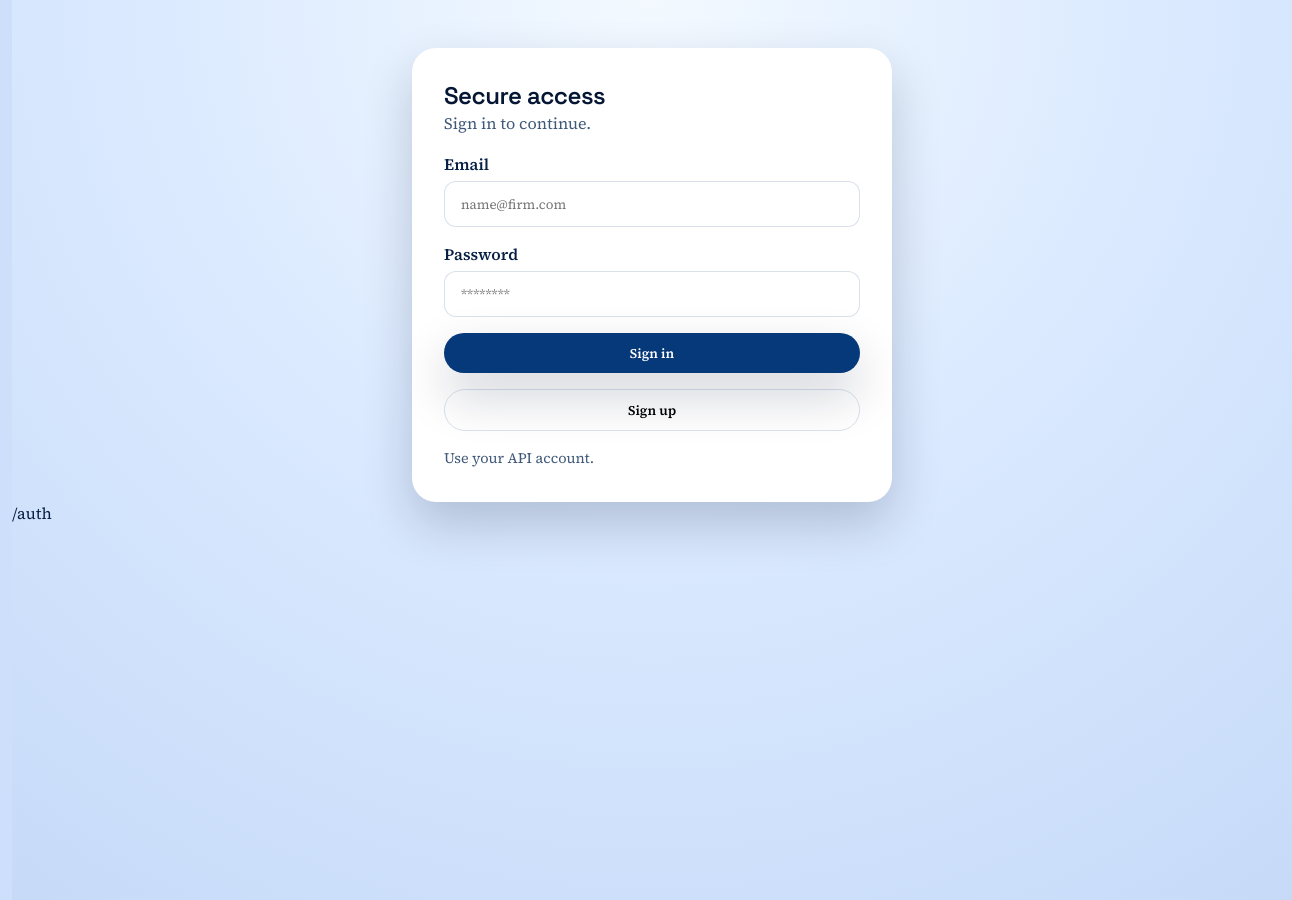
Auth page › asks for OTP when login requires a daily email code
Type "local.dev@jurisdigta.test" into the field labelled "Email" at (652, 204), box [444, 181, 860, 227]
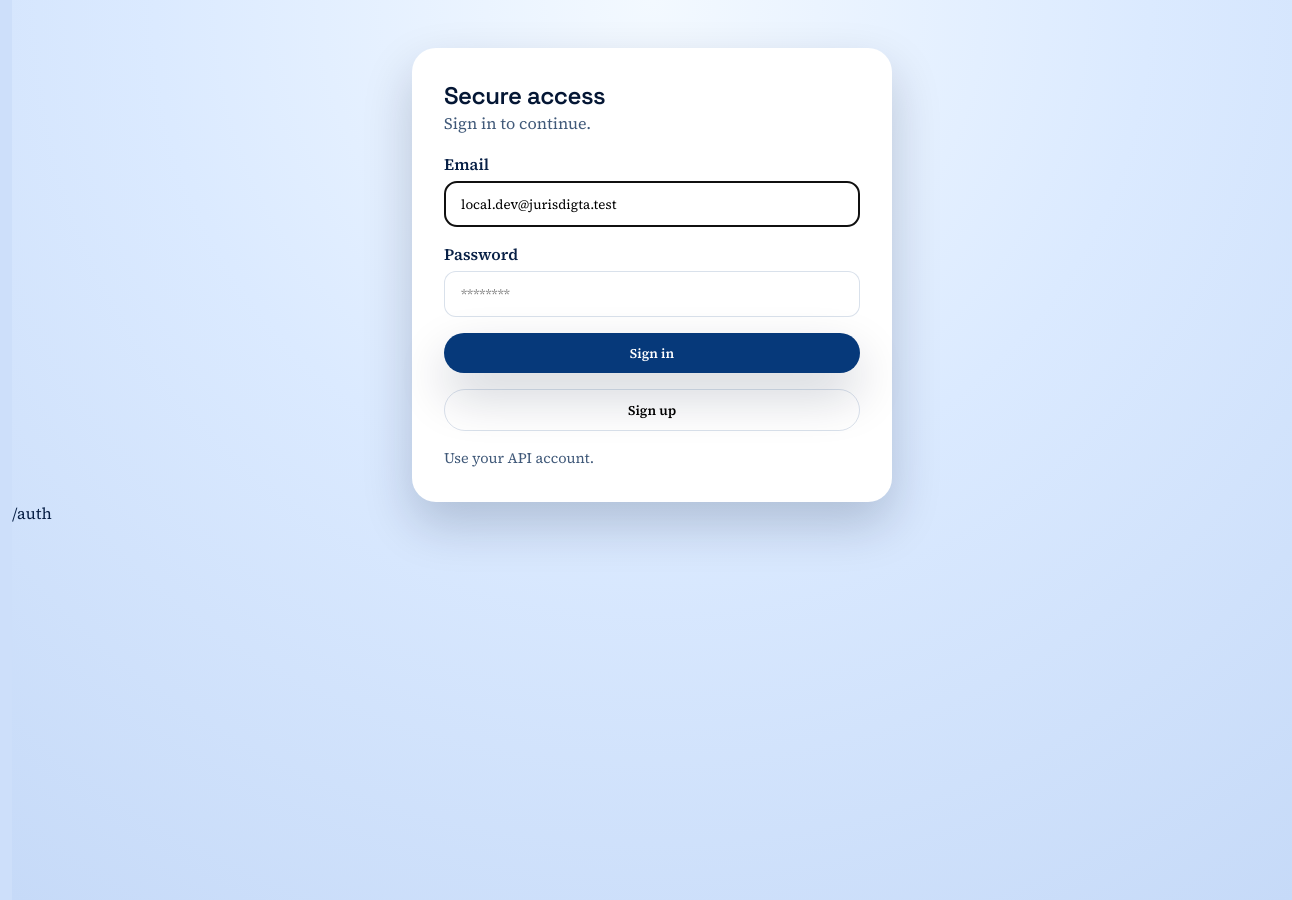
Type "LocalTest123!" into the password field labelled "Password" at (652, 294), box [444, 271, 860, 317]
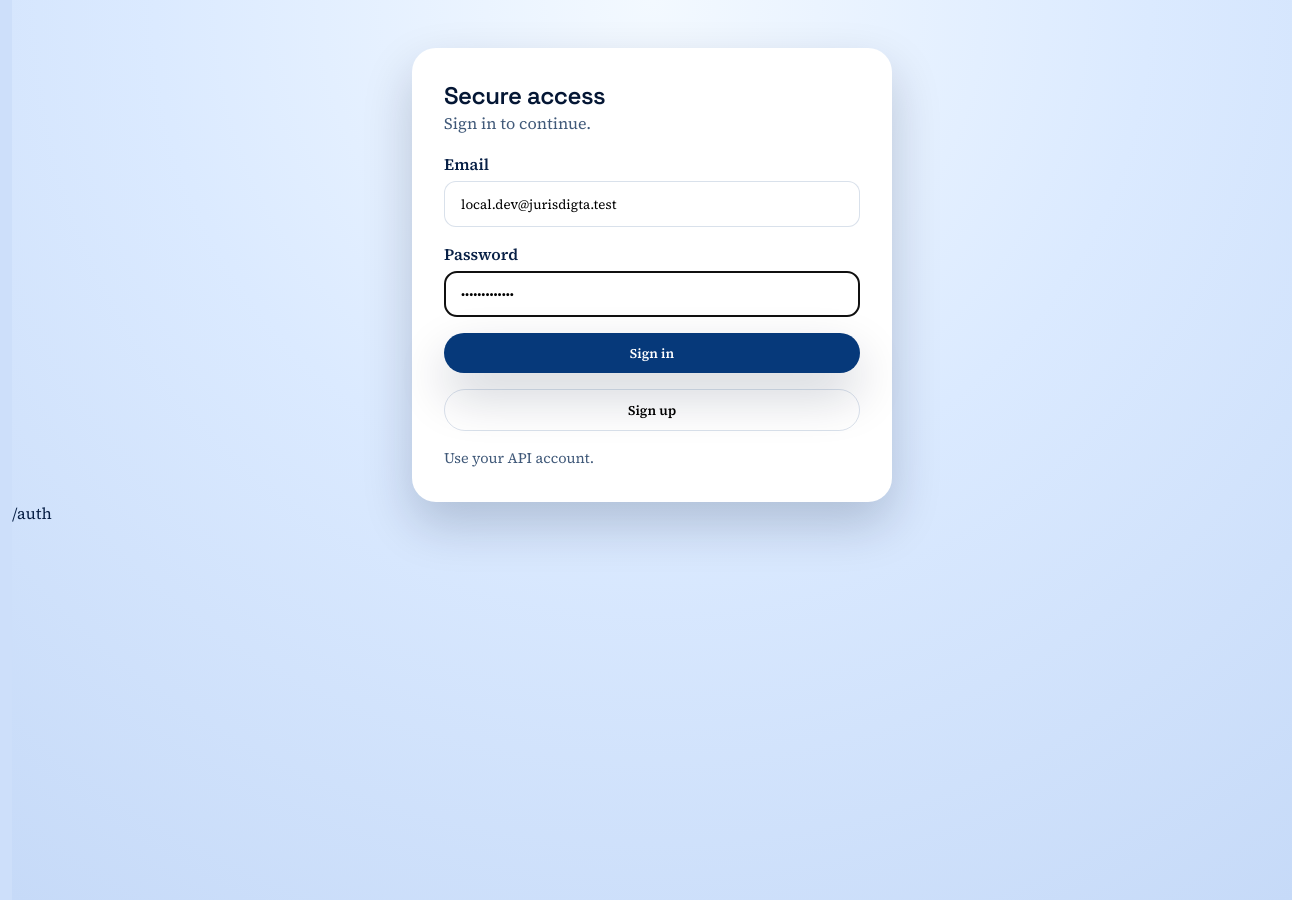
Click the button "Sign in" at (652, 353), box [444, 333, 860, 373]
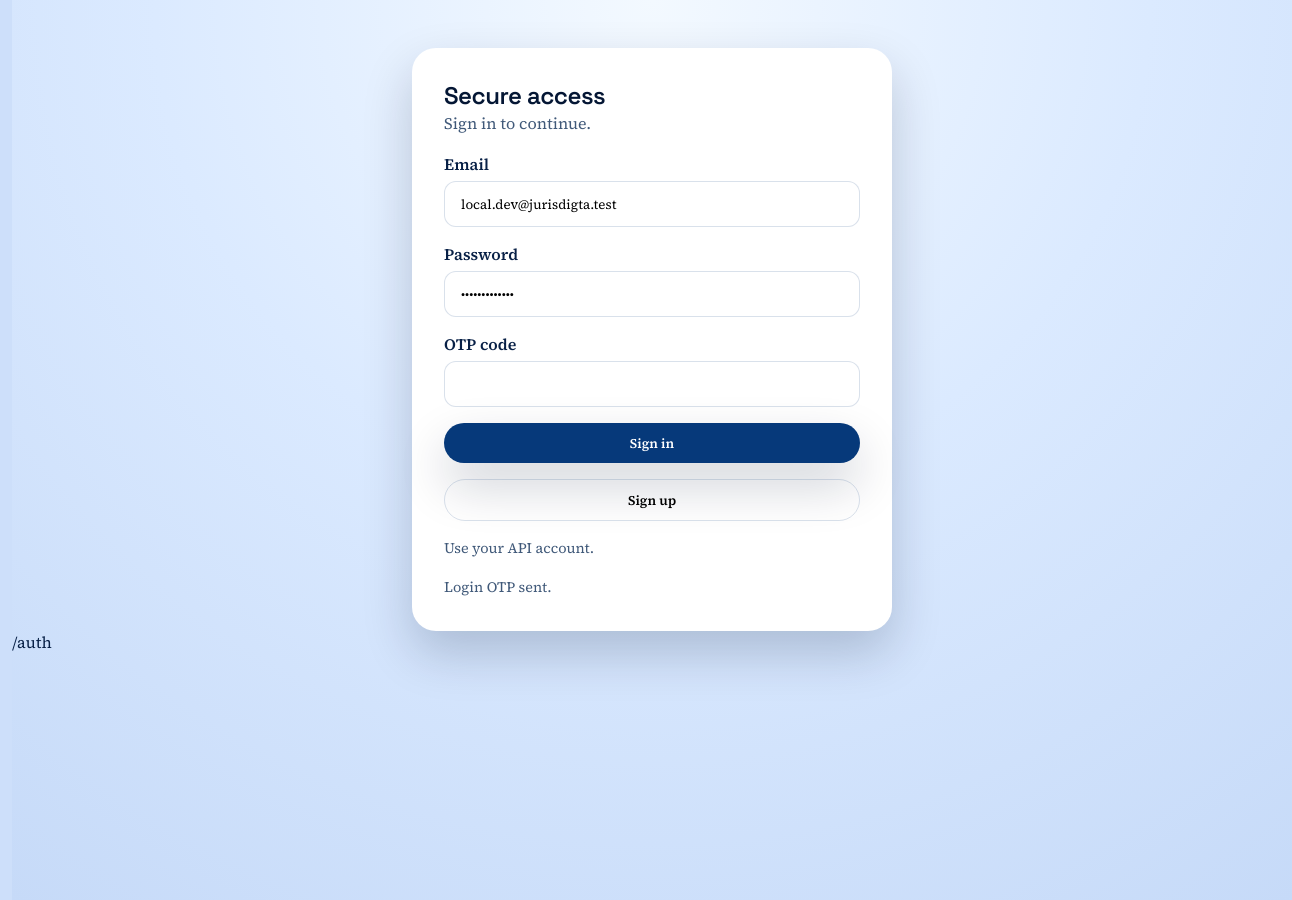
Now the text "Login OTP sent." is shown, box [444, 577, 552, 597]
Now the field labelled "OTP code" is shown
Type "654321" into the field labelled "OTP code" at (652, 384), box [444, 361, 860, 407]
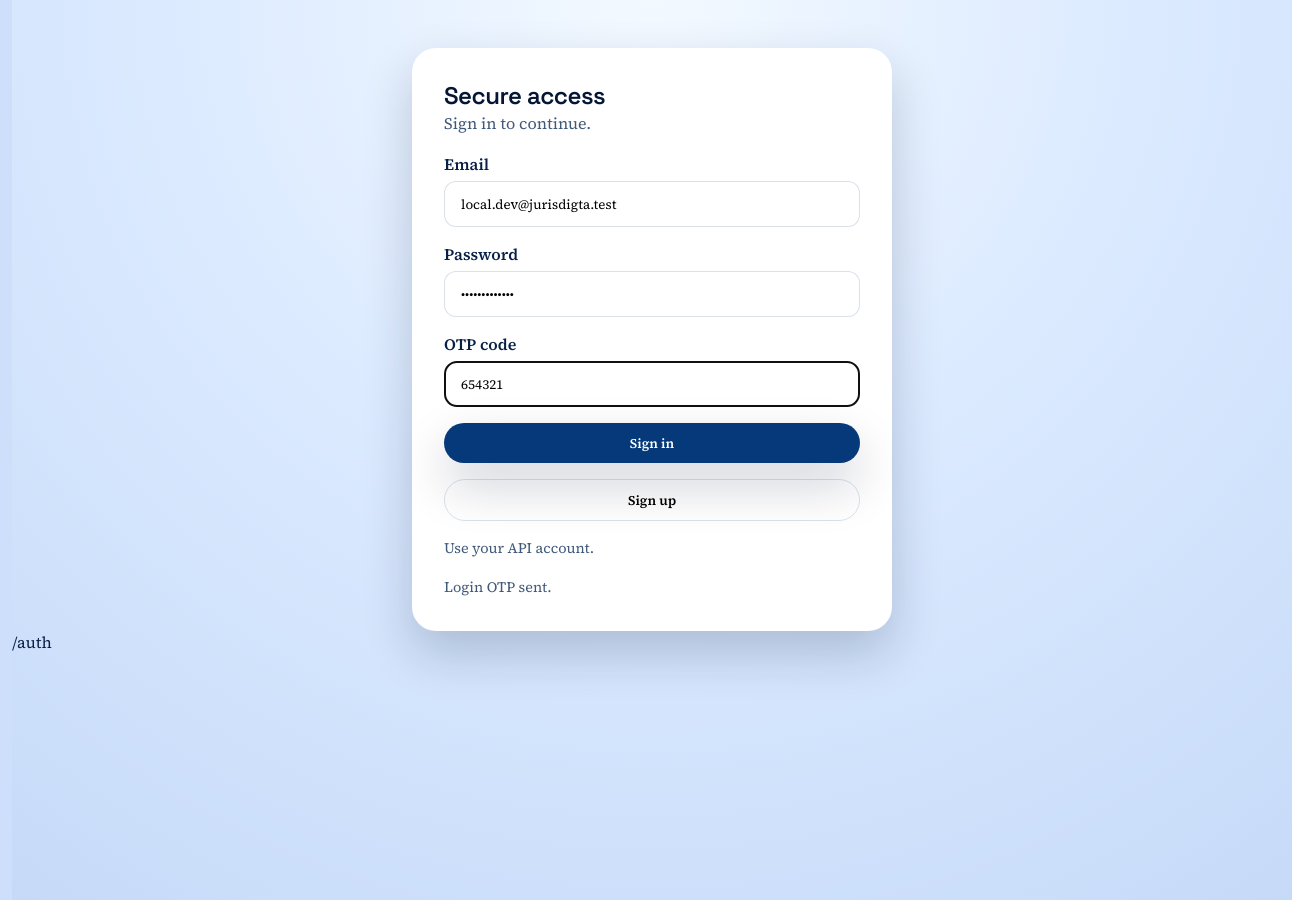
Click the button "Sign in" at (652, 443), box [444, 422, 860, 463]
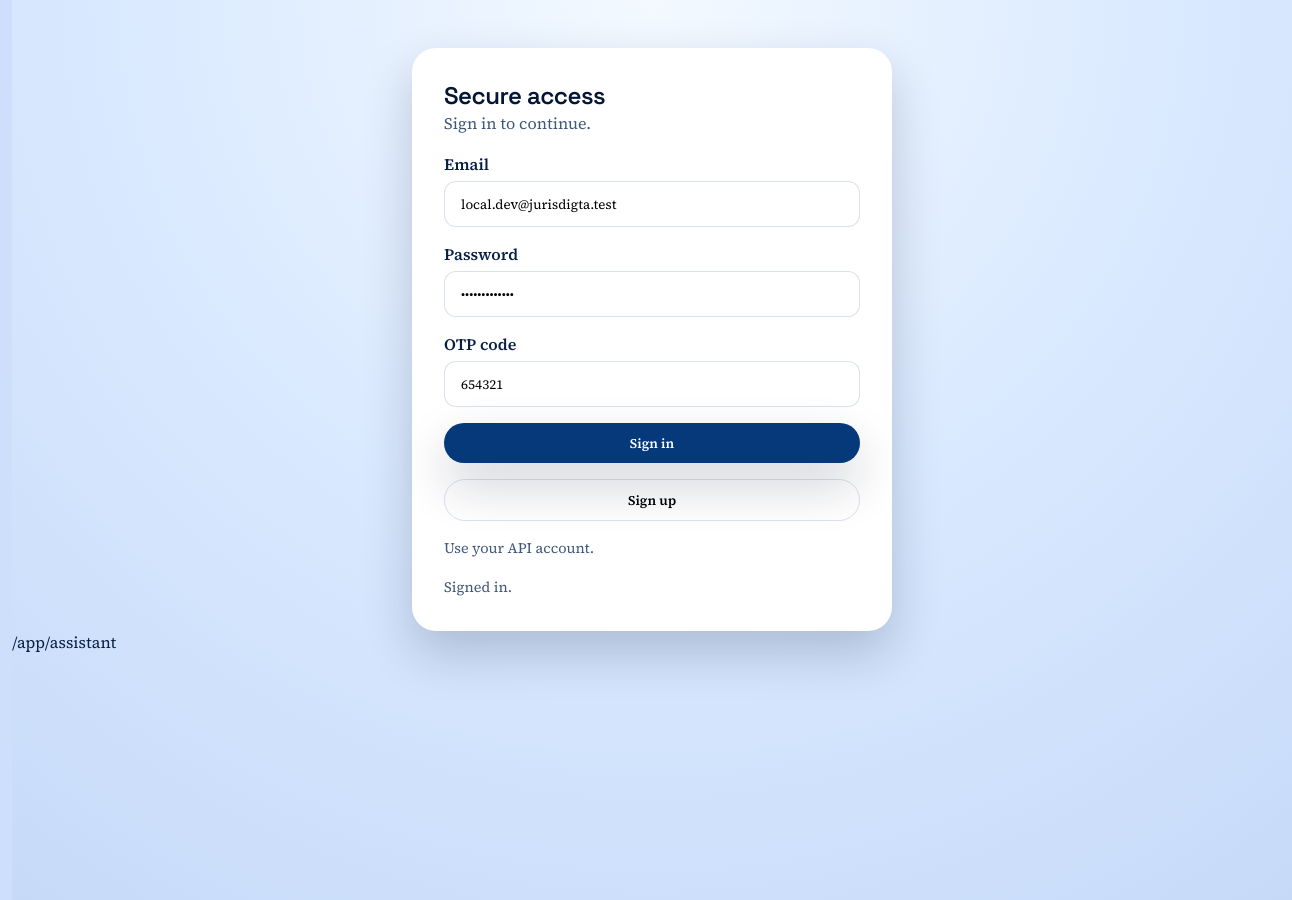
Now the text with test id "current-path" reads "/app/assistant", box [12, 631, 116, 653]
